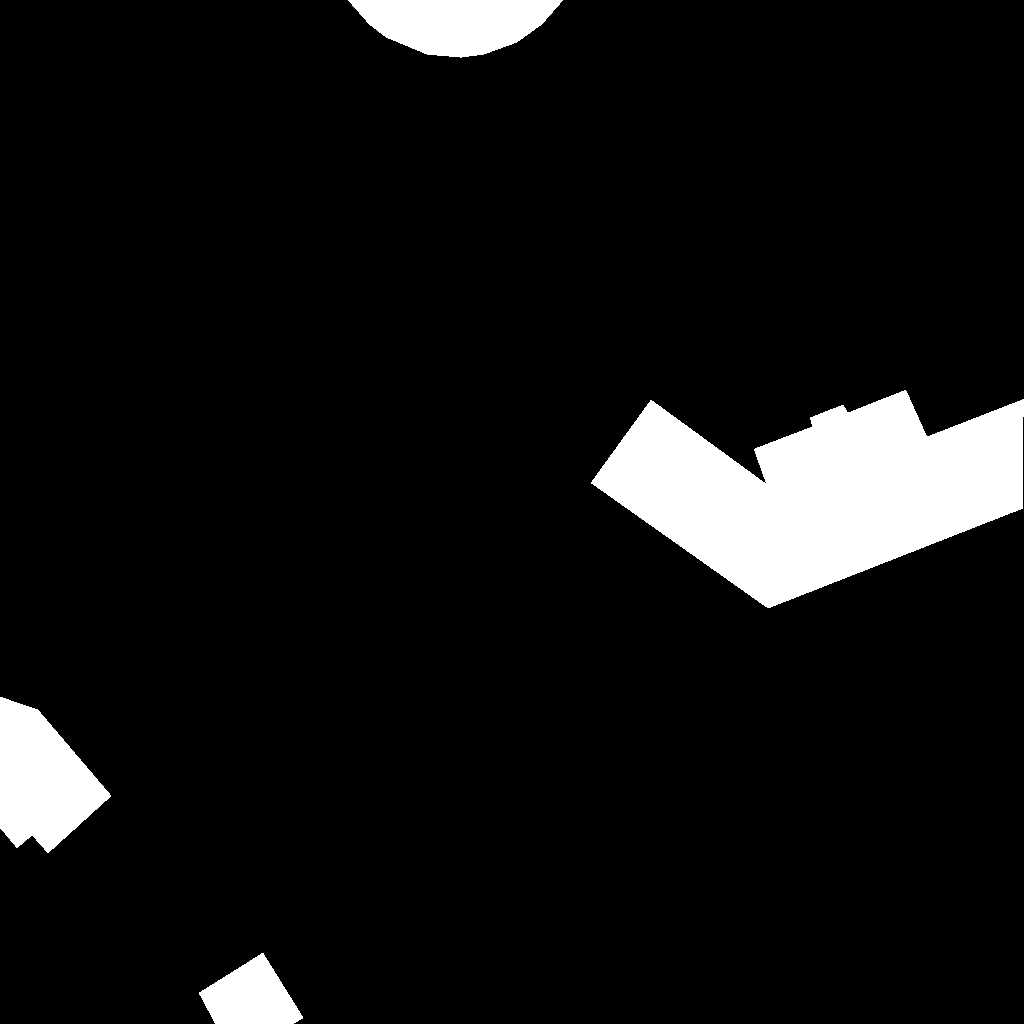building: (591, 390, 1024, 609), (0, 697, 112, 854), (348, 0, 564, 58), (199, 953, 304, 1024)
